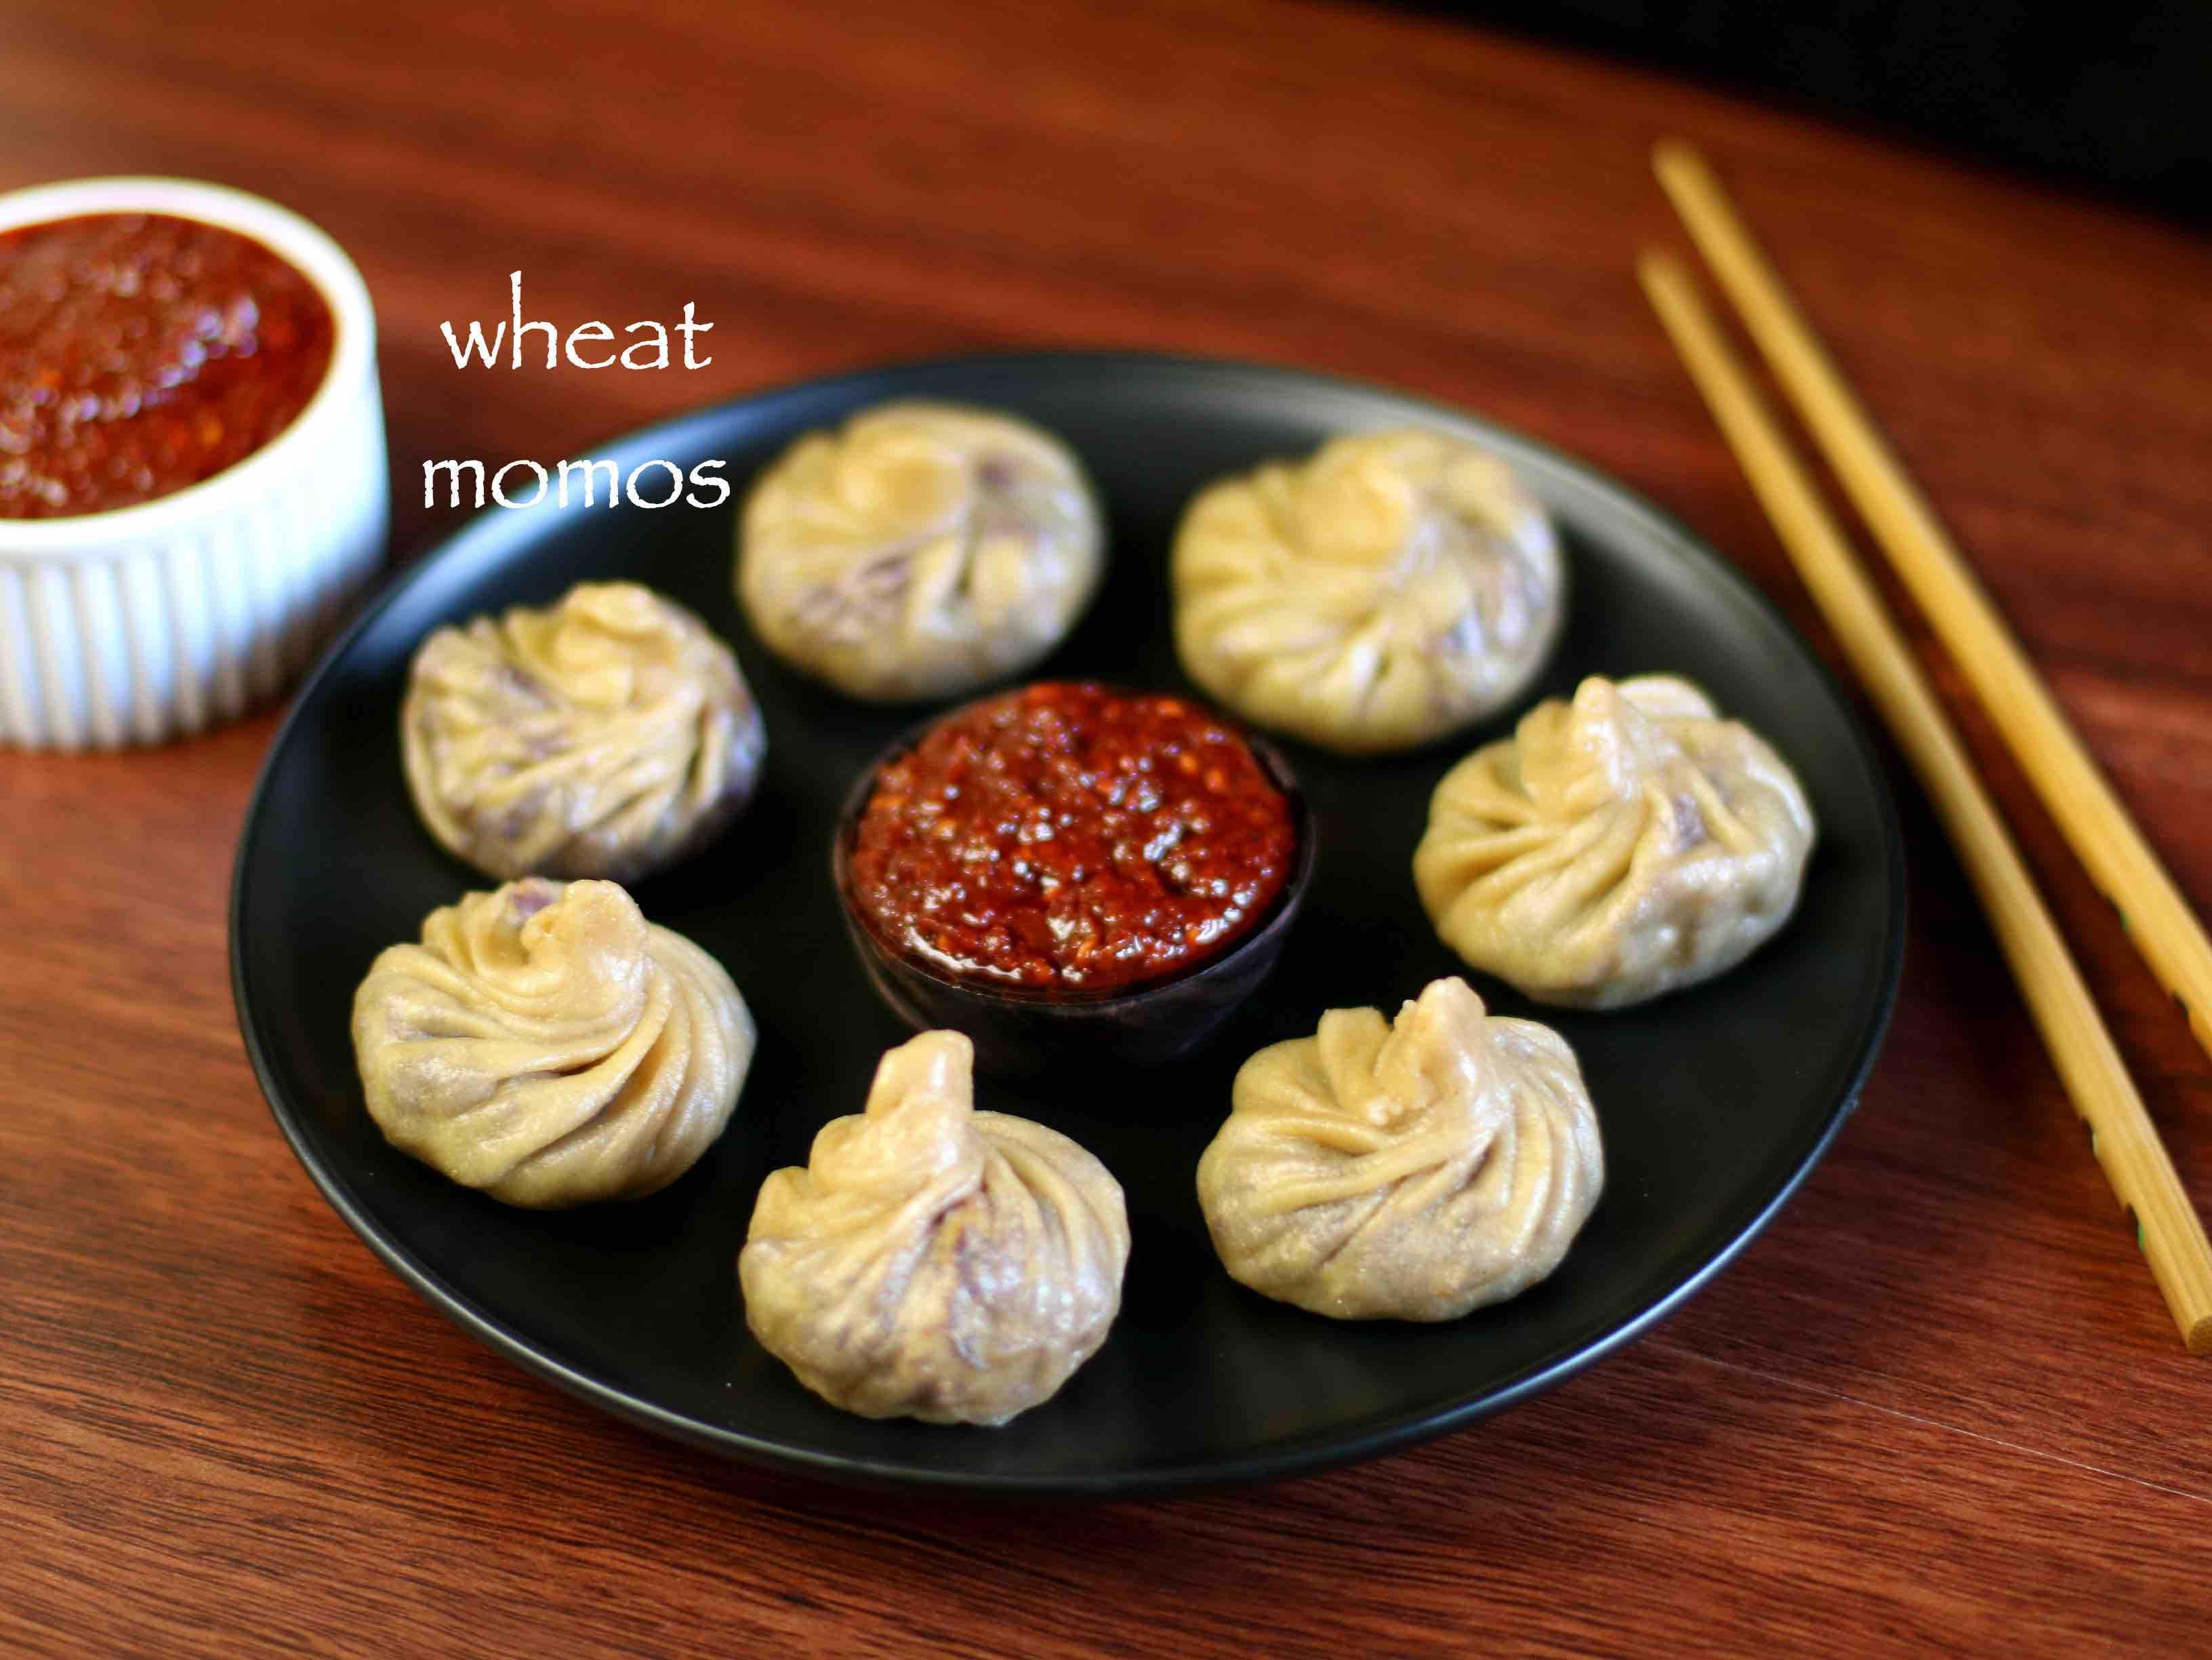momos: (738, 1032, 1127, 1425), (1197, 976, 1603, 1322), (1413, 673, 1814, 1011), (351, 877, 755, 1210), (1171, 431, 1565, 759), (738, 401, 1106, 699), (401, 582, 764, 881)
